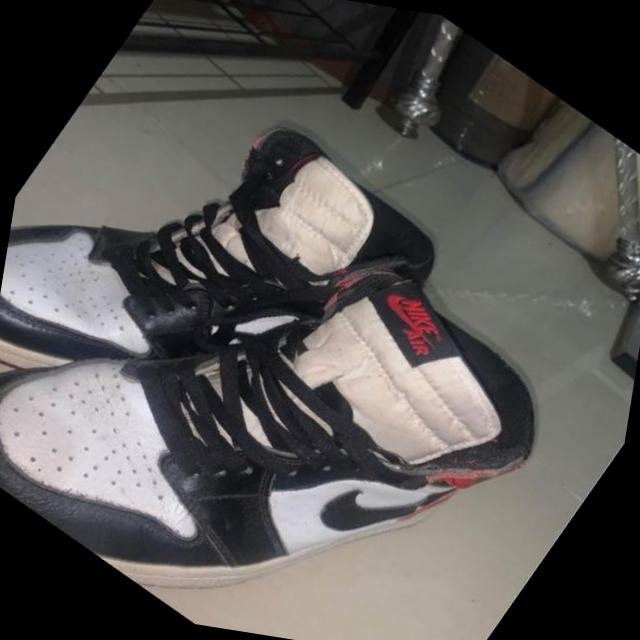nike_fake_jordan: (0, 71, 595, 640), (0, 5, 534, 604)
